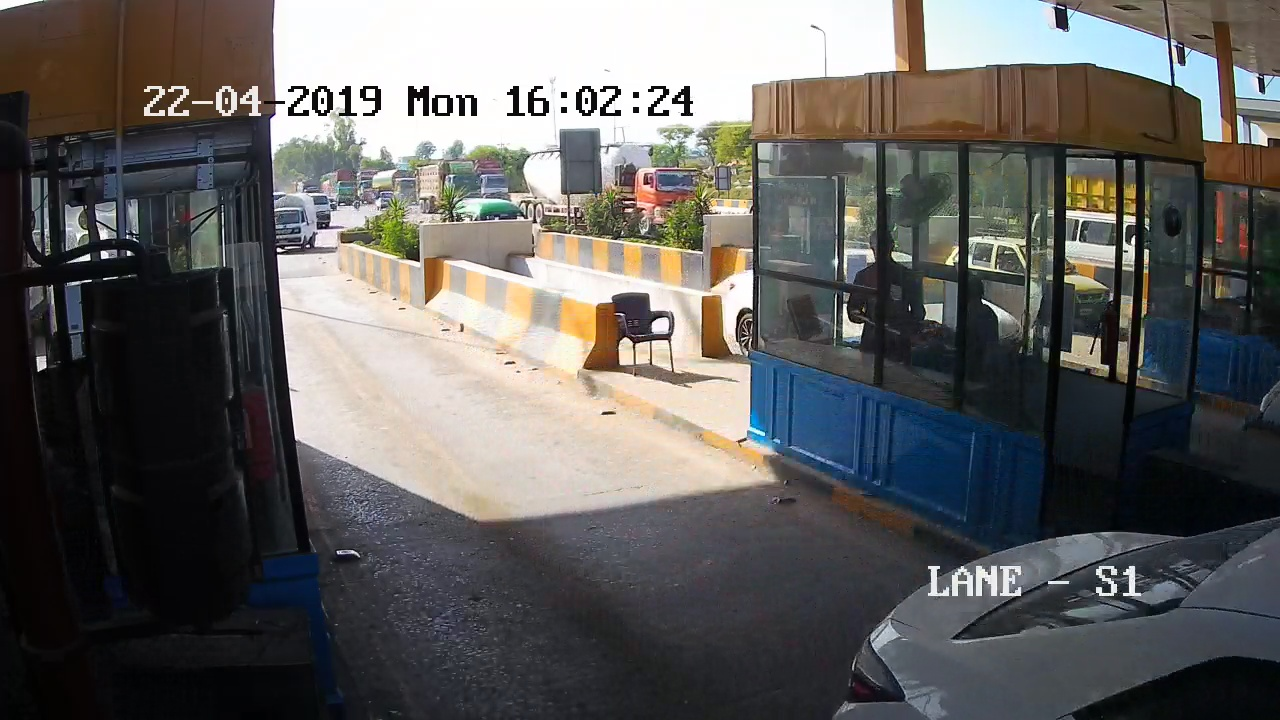car: (273, 189, 314, 254)
